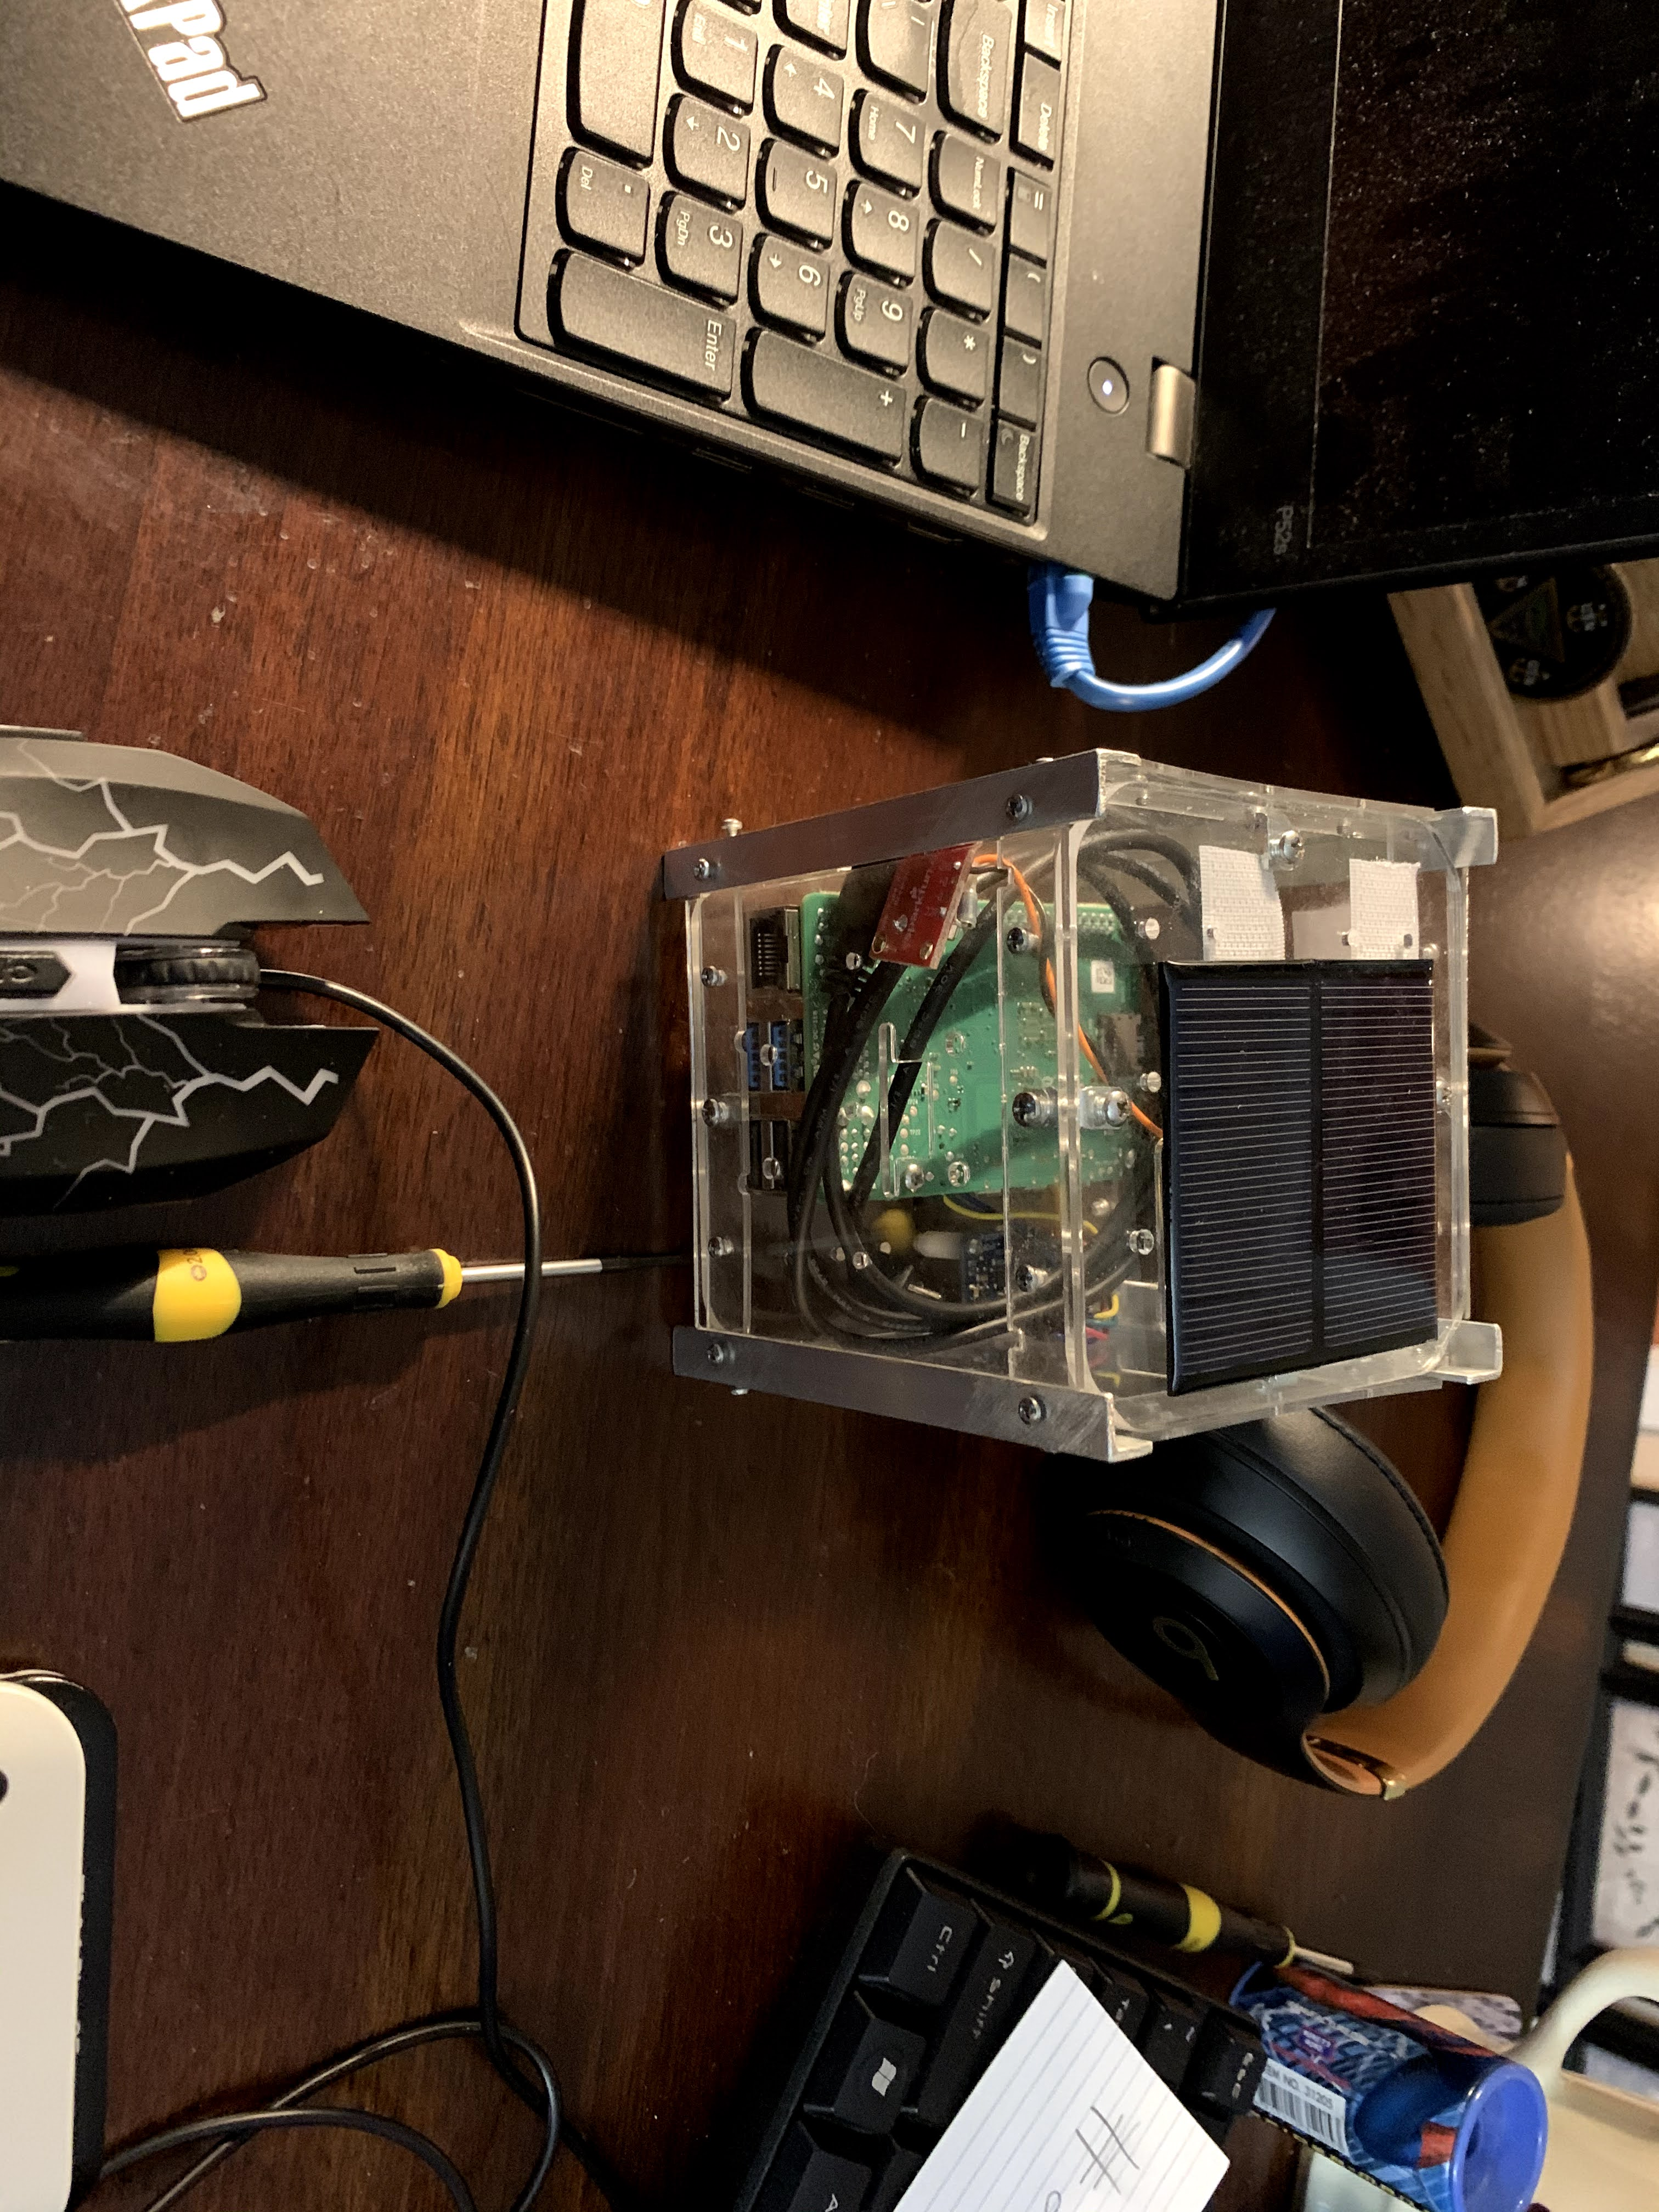Space-debris-cubesat: (638, 737, 1539, 1470)
